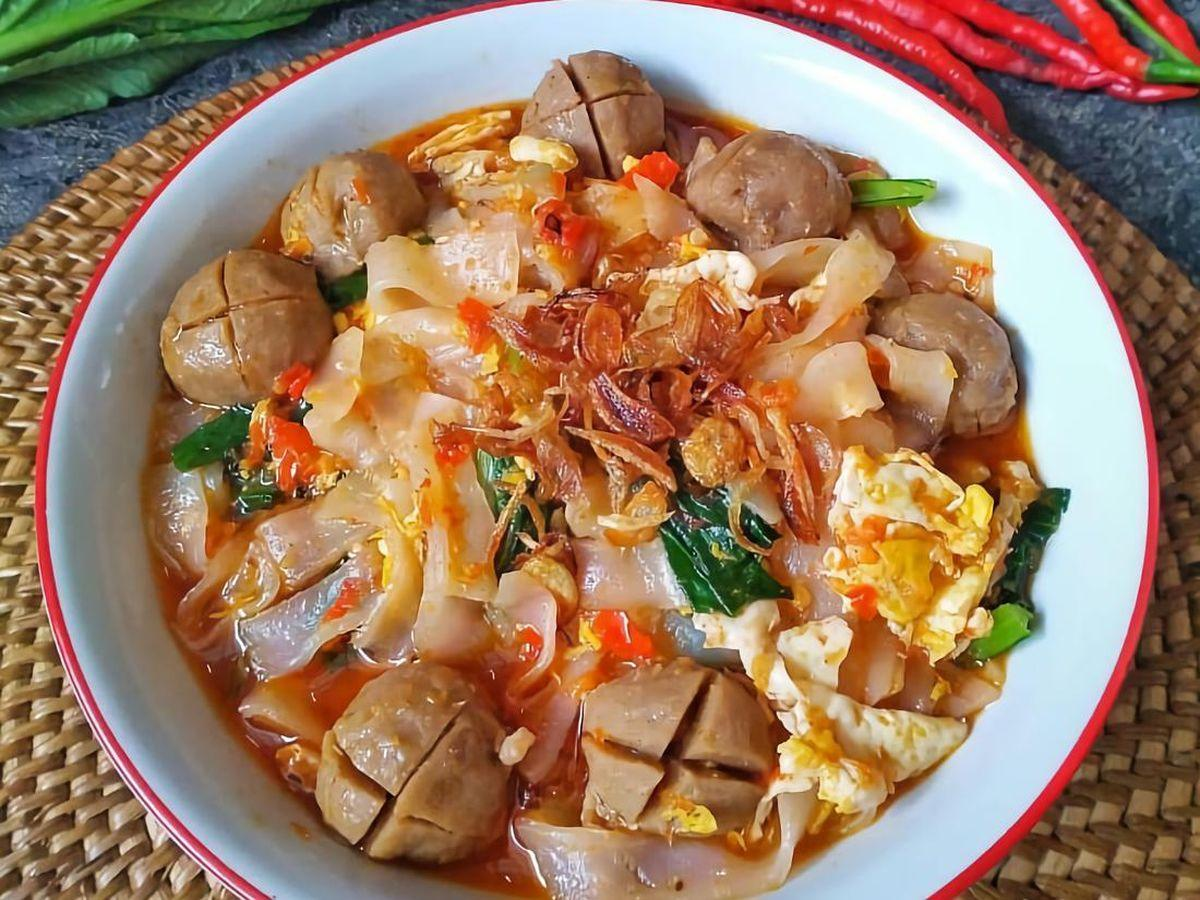seblak: (161, 52, 1071, 900)
